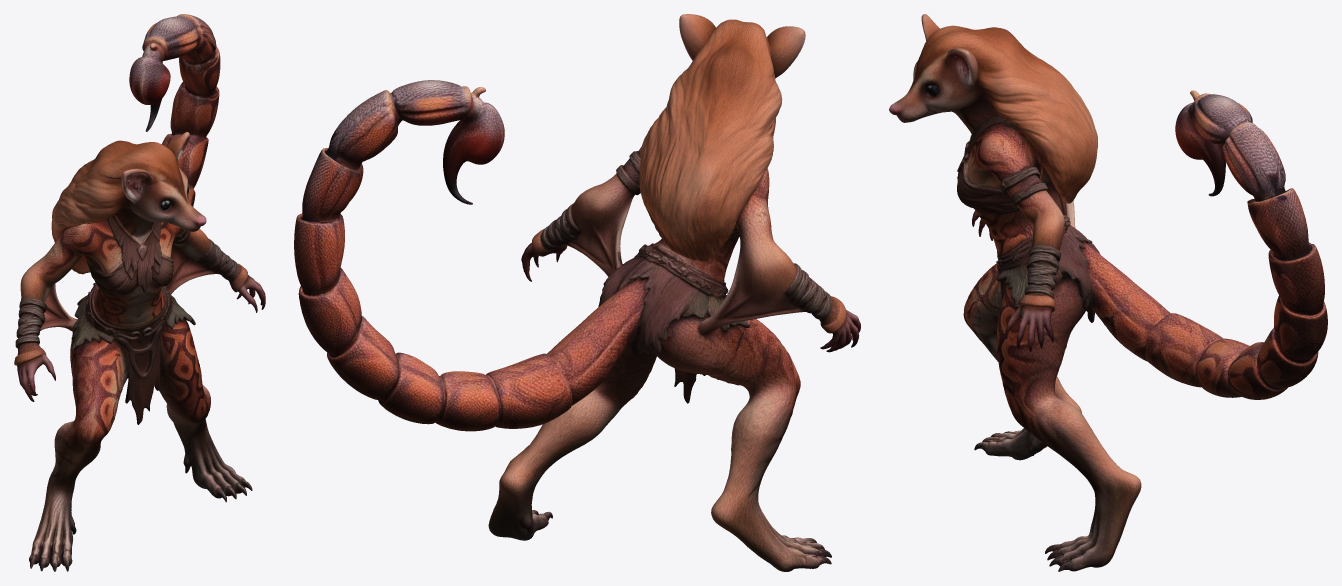
File: Meshy_AI_Serpentbound Huntress_1780577433_image-to-3d-texture-compressed.glb
3 renders of one model, left to right at view 1: azimuth 30°, elevation 25°; view 2: azimuth 150°, elevation 25°; view 3: azimuth 270°, elevation 25°, orthographic. The views are drawn at different scales.
Parts seen in each view (by area): view 1: mesh_0; view 2: mesh_0; view 3: mesh_0.
Boxes of the visible parts, x1=… form: mesh_0: x1=14, y1=14, x2=265, y2=571; mesh_0: x1=294, y1=14, x2=860, y2=571; mesh_0: x1=889, y1=14, x2=1327, y2=571.
Size of the model in its own units: 1.56 by 1.9 by 1.61.
1 material, 1 textured.
